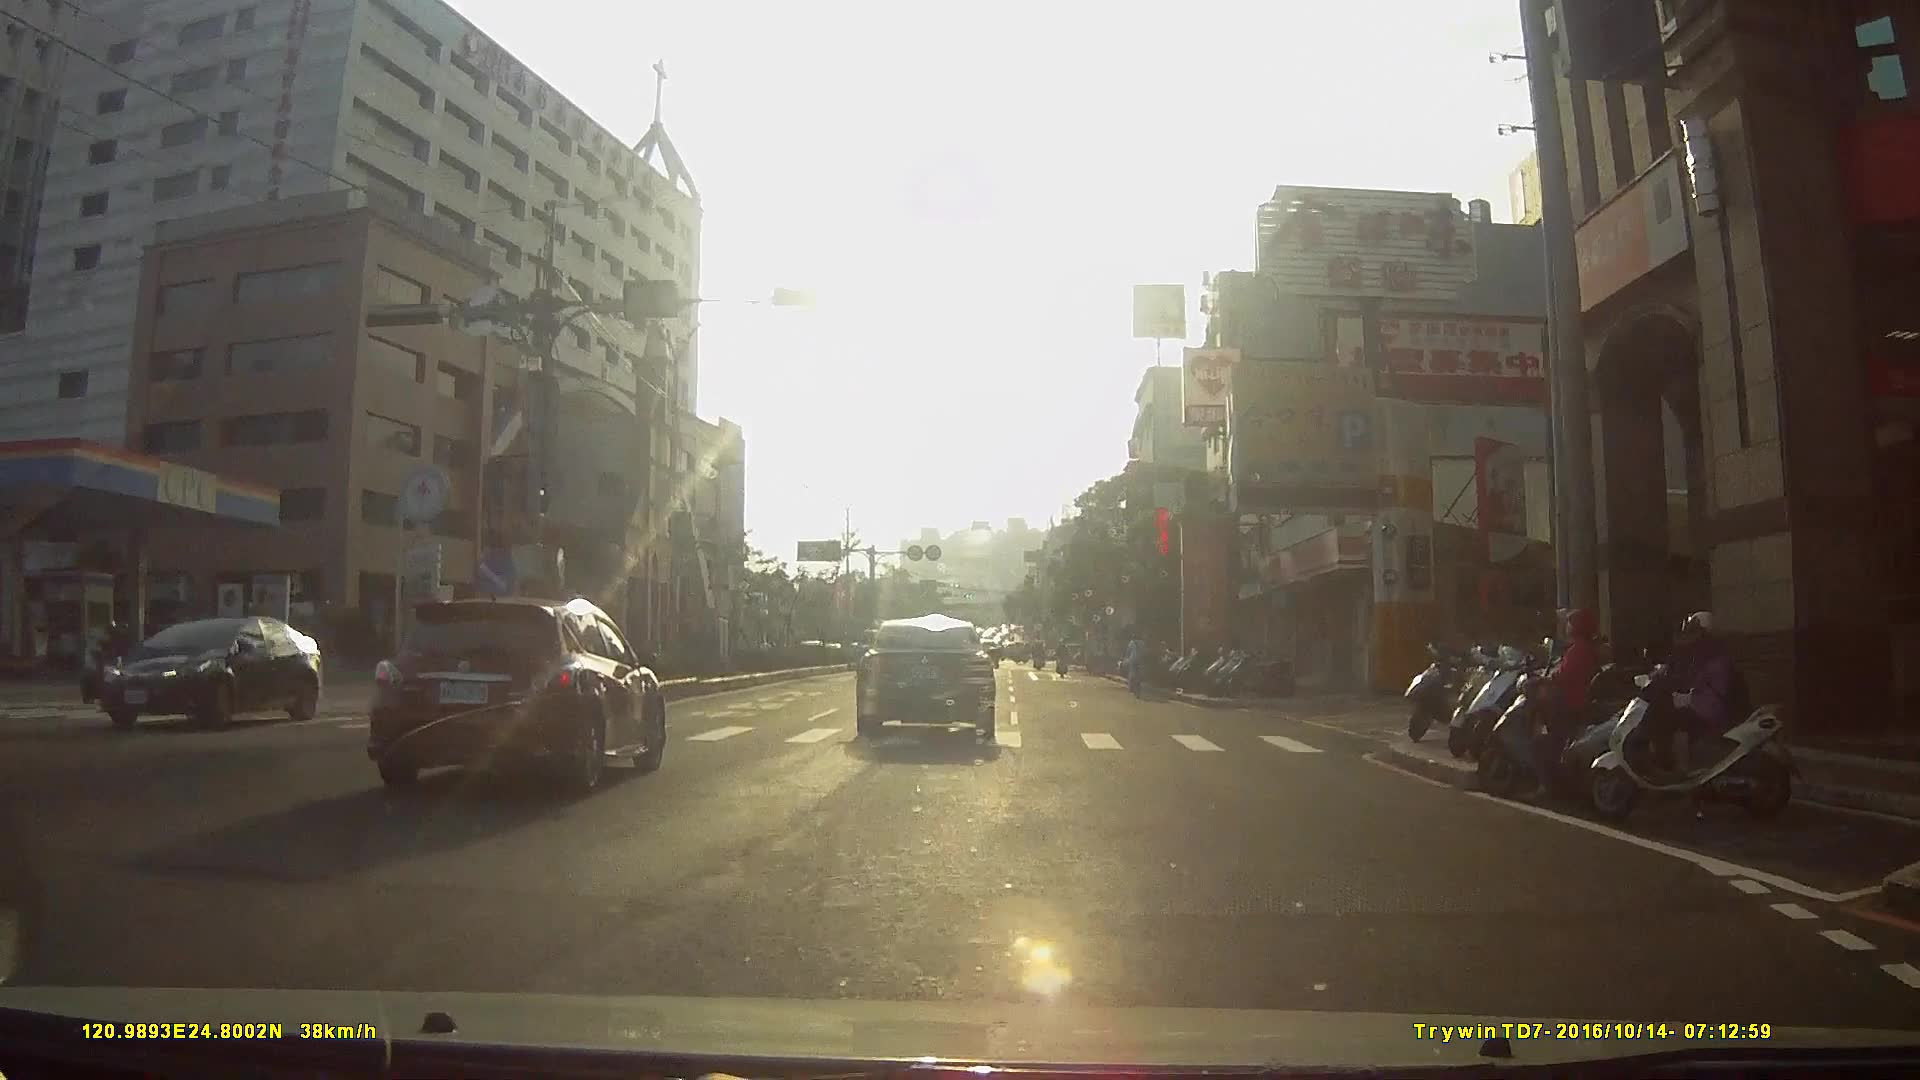rider: (1574, 605, 1812, 829), (1475, 595, 1687, 810), (84, 619, 130, 699), (1124, 628, 1153, 702)
vehicle: (371, 576, 679, 796), (90, 613, 333, 737), (850, 607, 1007, 739), (763, 607, 822, 662)
